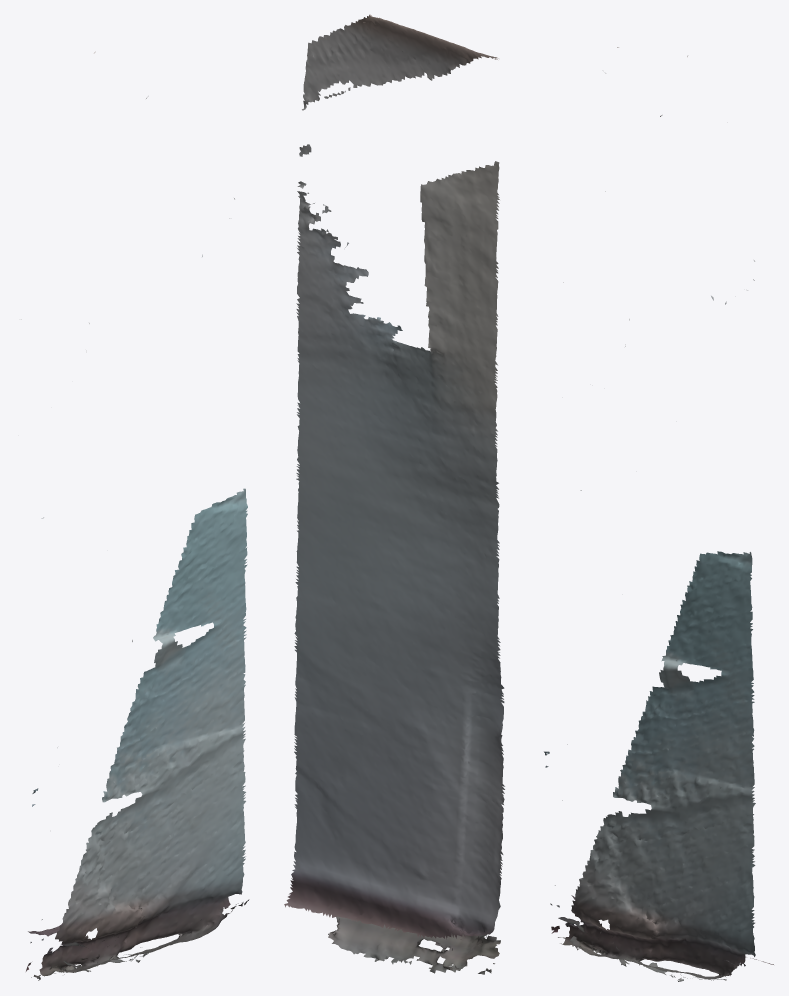
The model's file is apartment-full-10-bead9c17526f.glb.
3 renders of one model, left to right at view 1: azimuth 30°, elevation 25°; view 2: azimuth 150°, elevation 25°; view 3: azimuth 330°, elevation 25°, orthographic.
Bounding box in the file's own units: 0.585 × 2.46 × 0.152.
